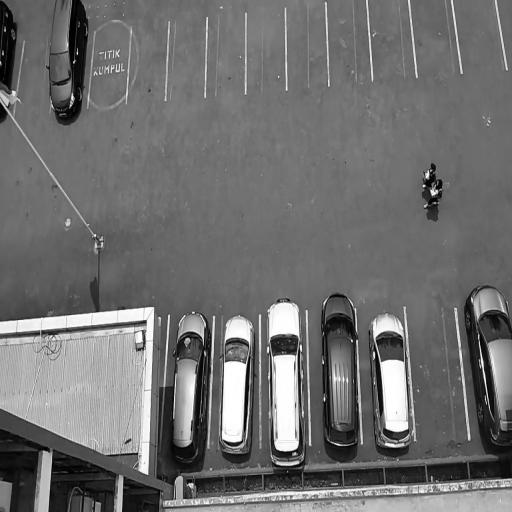Car: (462, 278, 512, 451), (265, 294, 307, 471), (166, 310, 214, 464), (319, 291, 360, 451), (368, 313, 415, 451), (215, 309, 257, 461), (48, 0, 90, 127), (0, 0, 17, 125)
Space Available: (406, 309, 467, 440), (453, 0, 506, 74), (327, 1, 372, 85), (368, 0, 416, 78), (287, 3, 329, 90), (88, 27, 131, 108), (166, 17, 207, 98), (127, 21, 168, 102), (247, 9, 286, 93), (206, 14, 244, 97), (15, 36, 51, 114), (497, 0, 512, 70)
